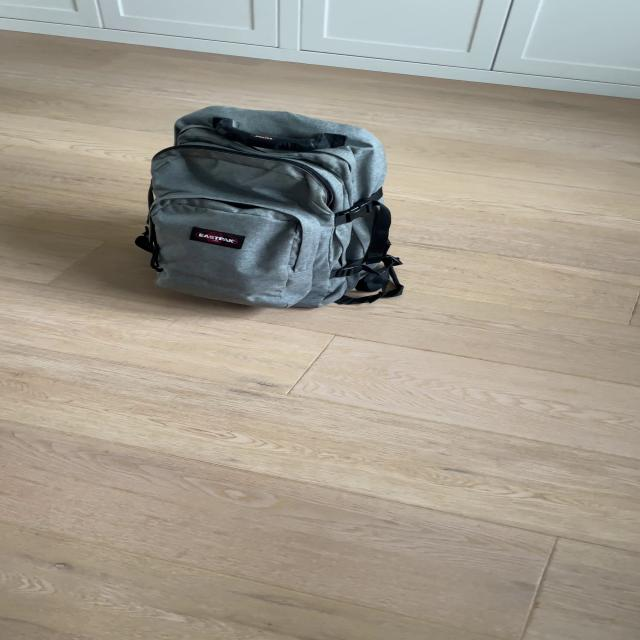backpack: (125, 96, 408, 316)
